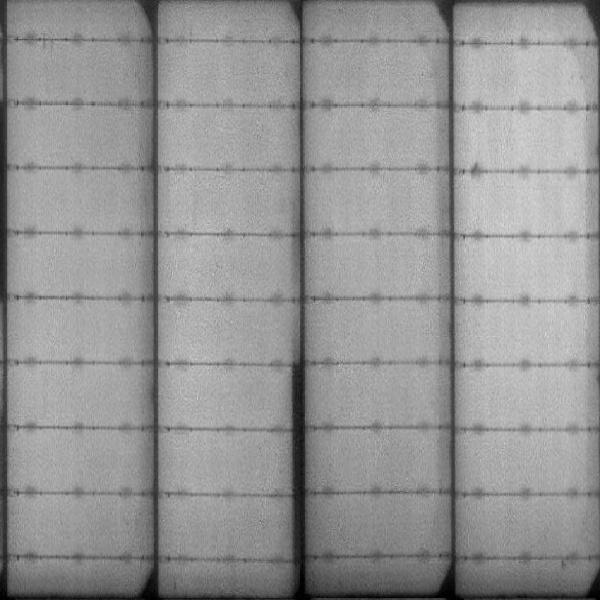black_border: (287, 360, 308, 595)
